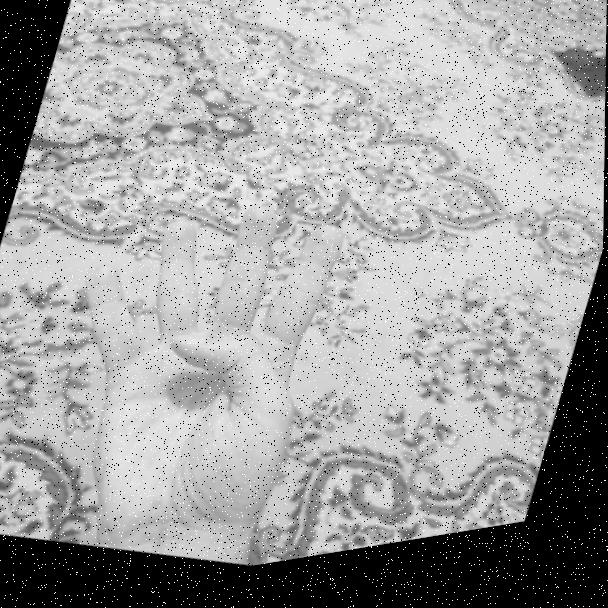four: (6, 151, 391, 605)
